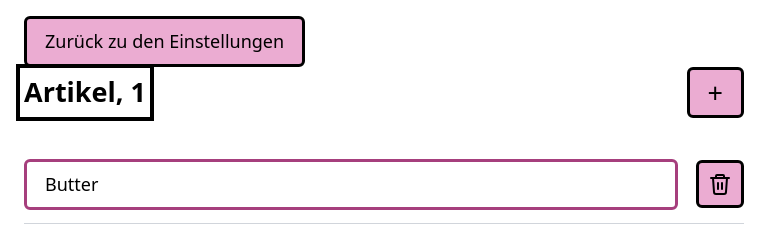
KnownItemsArea › returns to the list when the known item disappears
The image size is (761, 241).
Click the button named "Löschen, Butter" at (720, 184), box [696,160,744,208]
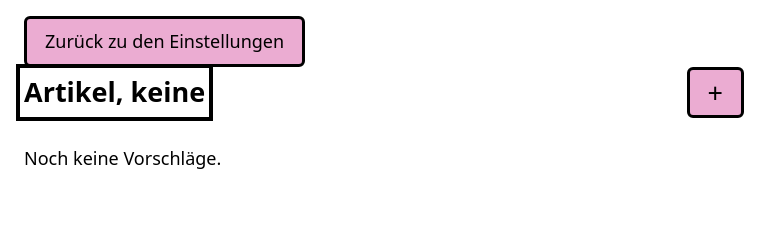
Now the heading "Artikel, keine" is shown, box [24,72,205,113]
